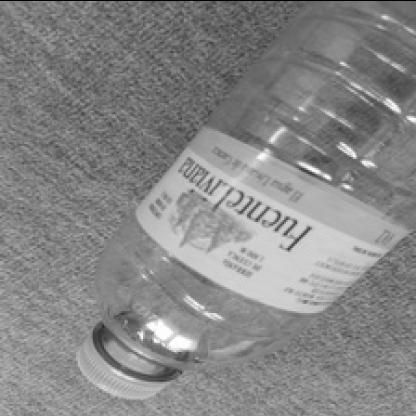plastic_bottles: (76, 0, 416, 399)
